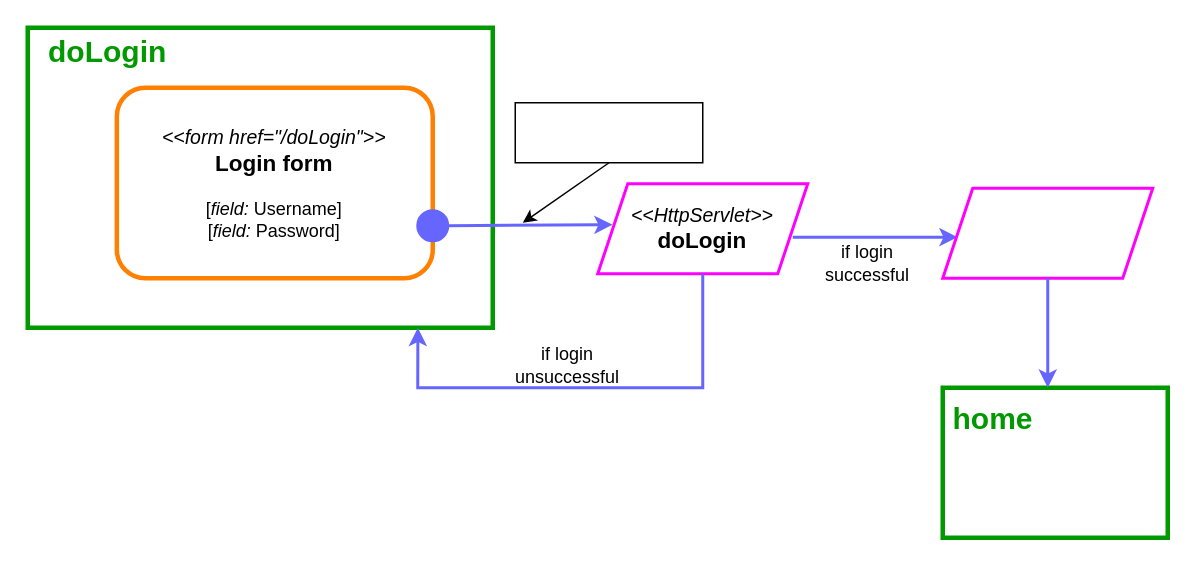
This 1196x566 diagram has some shape labels left out. Here are the shapes that lost their labels. From the top down, the centre of each, then its label:
At [608,132]: "POST username, password".
At [1047,232]: "<<HttpServlet>> home".
